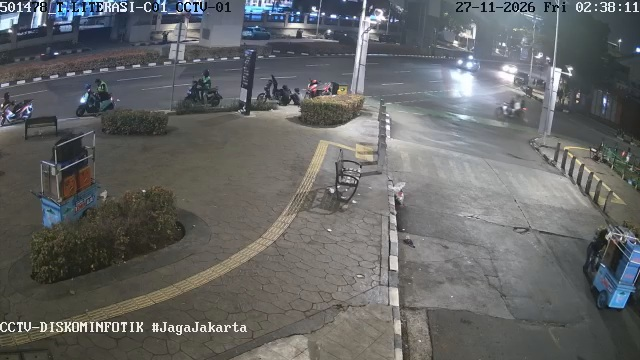Gerobak: (32, 129, 103, 230), (582, 226, 640, 311)
